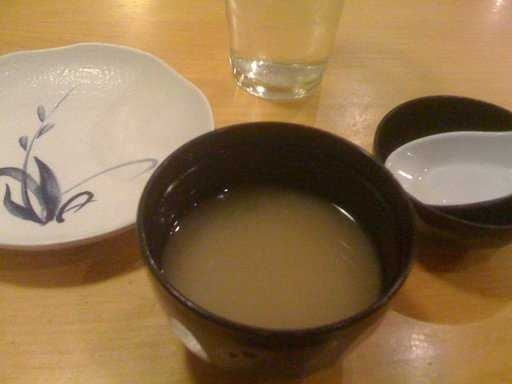soup: (168, 148, 381, 322)
